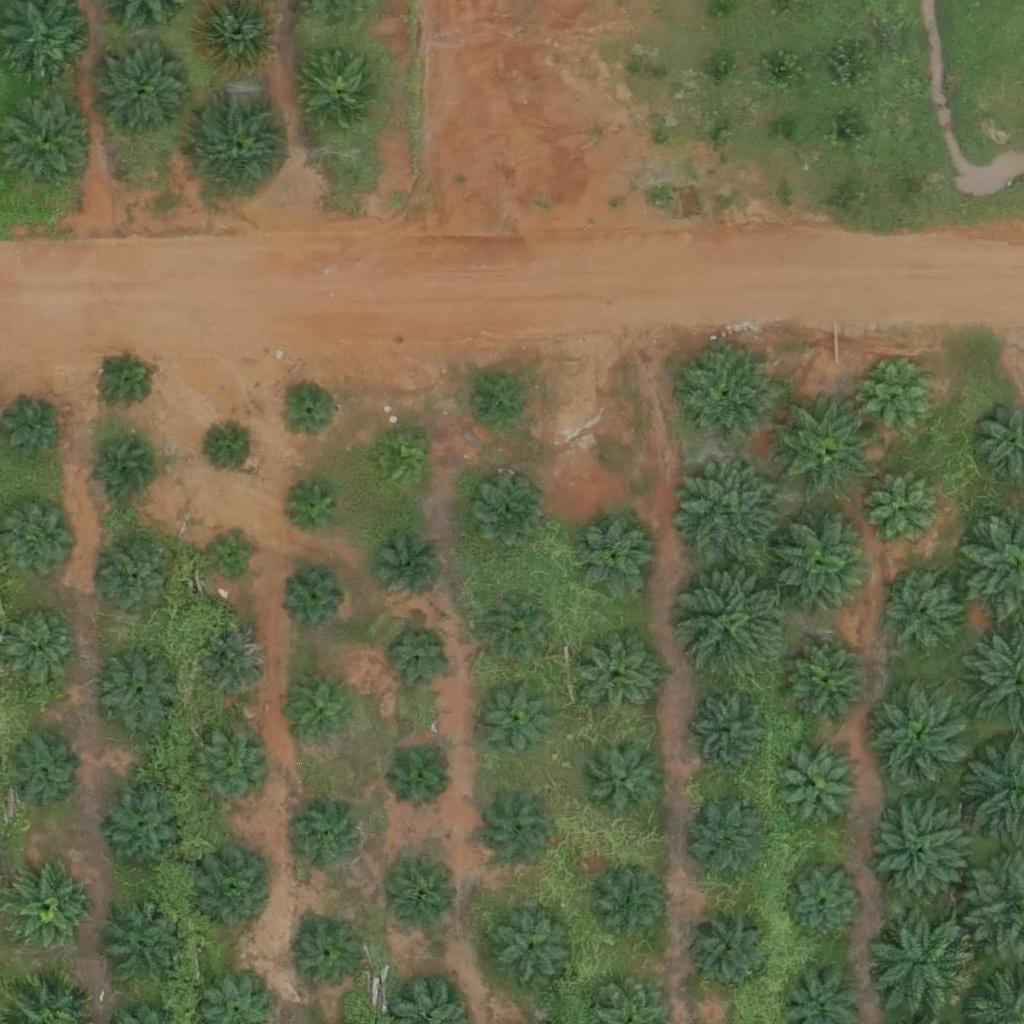Kelapa_Sawit: (676, 458, 789, 572), (682, 565, 795, 679), (865, 909, 977, 1023), (94, 39, 194, 140), (193, 93, 293, 194), (677, 345, 777, 446), (775, 396, 875, 497), (775, 516, 875, 616), (872, 683, 972, 783), (875, 797, 975, 897), (492, 905, 580, 994), (96, 645, 184, 733), (191, 845, 279, 933), (299, 50, 387, 138), (100, 785, 188, 873), (860, 354, 947, 442), (783, 860, 870, 948), (692, 905, 779, 993), (5, 866, 92, 954), (100, 904, 187, 992), (4, 730, 79, 806), (483, 588, 558, 664), (467, 478, 542, 554), (581, 639, 656, 715), (576, 519, 651, 595), (696, 692, 771, 768), (694, 806, 769, 882), (788, 645, 863, 721), (783, 749, 858, 825), (890, 578, 965, 654), (1, 500, 76, 575), (99, 544, 174, 619), (865, 471, 940, 546), (293, 920, 368, 995), (281, 804, 356, 879), (482, 795, 557, 870), (587, 867, 662, 942), (589, 739, 664, 814), (483, 679, 558, 754), (191, 730, 266, 805), (198, 629, 273, 704), (370, 534, 445, 609), (384, 624, 459, 699), (382, 738, 457, 813), (385, 862, 460, 937), (93, 348, 156, 411), (94, 437, 157, 500), (291, 677, 354, 740), (368, 432, 431, 495), (460, 370, 523, 433), (3, 397, 65, 460), (278, 379, 340, 442), (282, 479, 344, 542), (282, 566, 344, 629), (208, 423, 258, 474), (207, 529, 257, 580)
